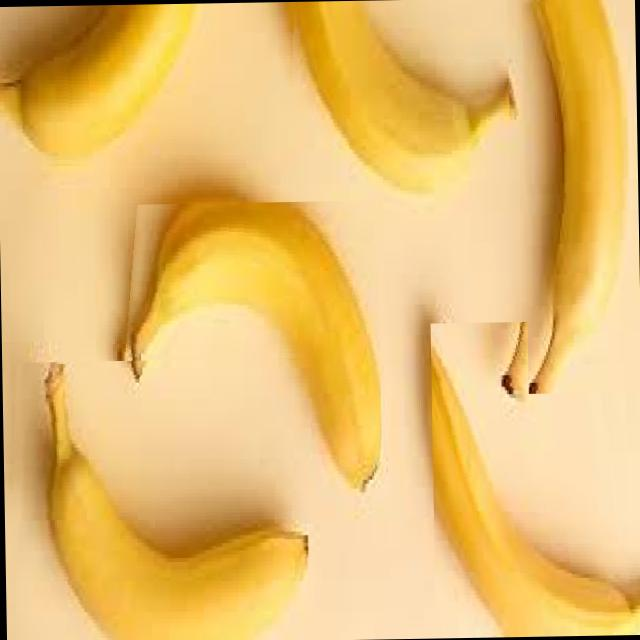Organic: (2, 356, 314, 640), (110, 199, 381, 490), (429, 318, 640, 638), (520, 0, 630, 392), (285, 0, 508, 186), (0, 1, 219, 169)
